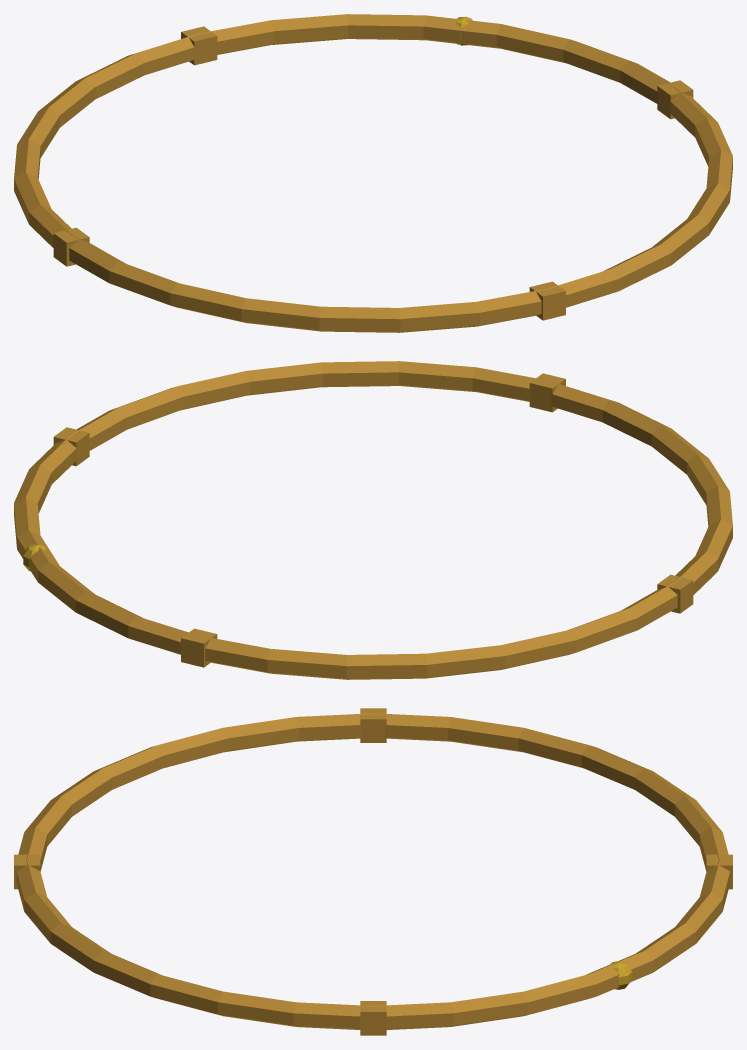
The model's file is LairCenturyDialRing4.fbx.
3 renders of one model, top to bottom at view 1: azimuth 30°, elevation 25°; view 2: azimuth 150°, elevation 25°; view 3: azimuth 270°, elevation 25°, orthographic.
Parts seen in each view (by area): view 1: LairCenturyDialRing4; view 2: LairCenturyDialRing4; view 3: LairCenturyDialRing4.
Part boxes in pixels (left/top/right/bottom): LairCenturyDialRing4: left=14, top=14, right=732, bottom=332; LairCenturyDialRing4: left=14, top=361, right=732, bottom=679; LairCenturyDialRing4: left=14, top=708, right=732, bottom=1035.
Size of the model in its own units: 137 by 5.6 by 137.
2 materials, 2 textured.
